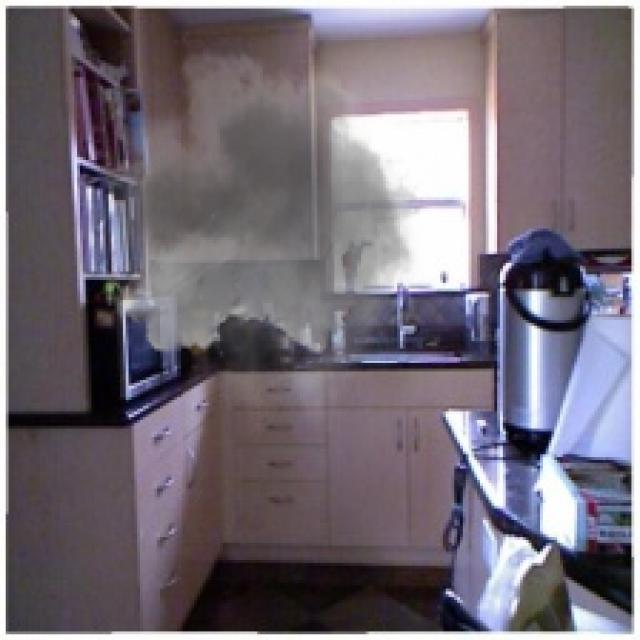Smoke: (94, 32, 437, 434)
